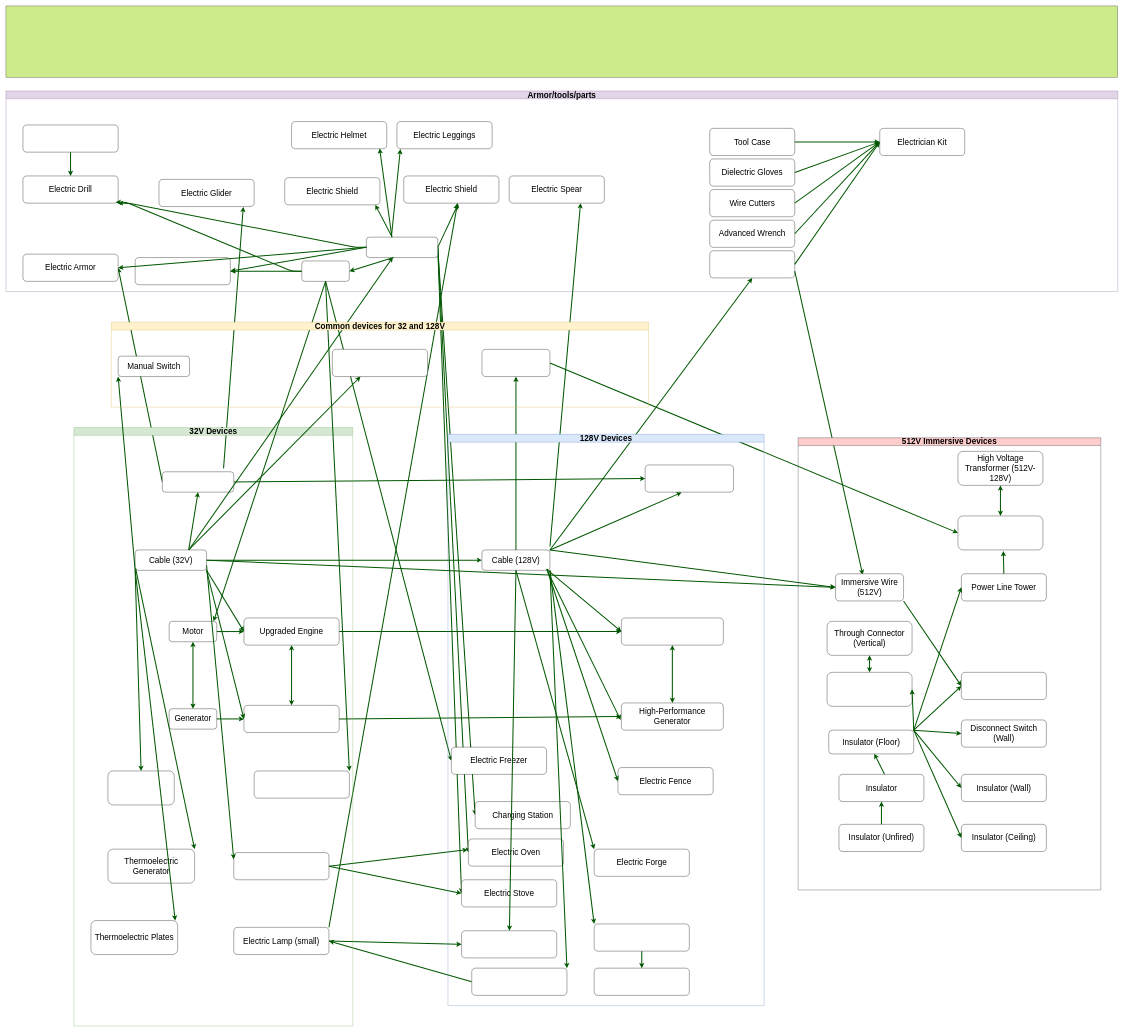
This 1124x1032 diagram has some shape labels left out. Here are the shapes that lost their labels. From the top down, the centre of each, then its label:
At pixel 562 41: "Electrical Progressive: Crafting Web (3.2.x)".
At pixel 70 138: "Drill Bit".
At pixel 402 247: "Copper Coil".
At pixel 752 264: "Electric Soldering Iron".
At pixel 182 271: "Electric Axe".
At pixel 325 271: "Rotor".
At pixel 380 363: "Through Connector (Standard)".
At pixel 516 363: "Transformer".
At pixel 198 481: "Battery (32V)".
At pixel 689 478: "Battery (128V)".
At pixel 1000 533: "High Voltage Transformer (128V-512V)".
At pixel 672 631: "High-Performance Engine".
At pixel 869 689: "Through Connector (Horizontal)".
At pixel 1003 686: "Street Lighting".
At pixel 291 719: "Upgraded Generator".
At pixel 141 788: "Solar Generator".
At pixel 301 784: "Electric Refrigerator".
At pixel 281 866: "Electric Heater".
At pixel 509 944: "Heat Gun".
At pixel 641 937: "Outdoor Wall Lantern".
At pixel 519 981: "Electric Lamp".
At pixel 641 981: "Outdoor Ground Light".
